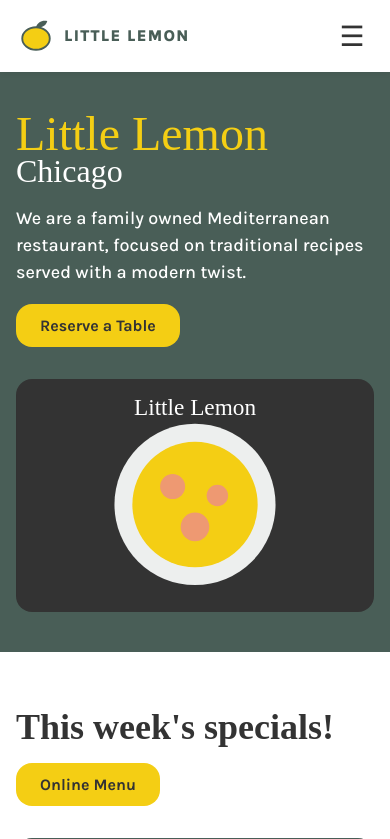
Test: App › toggles the mobile menu and updates aria-expanded
Click the button named "open menu".
click(352, 36)  # box [330, 12, 374, 60]
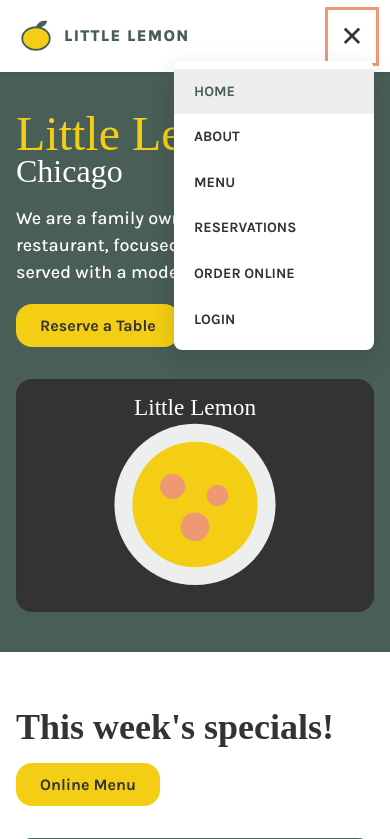
expect the button named "close menu" is expanded: met, box [330, 12, 374, 60]
